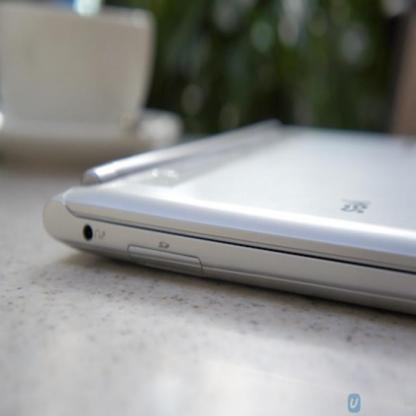board: (36, 111, 412, 296)
